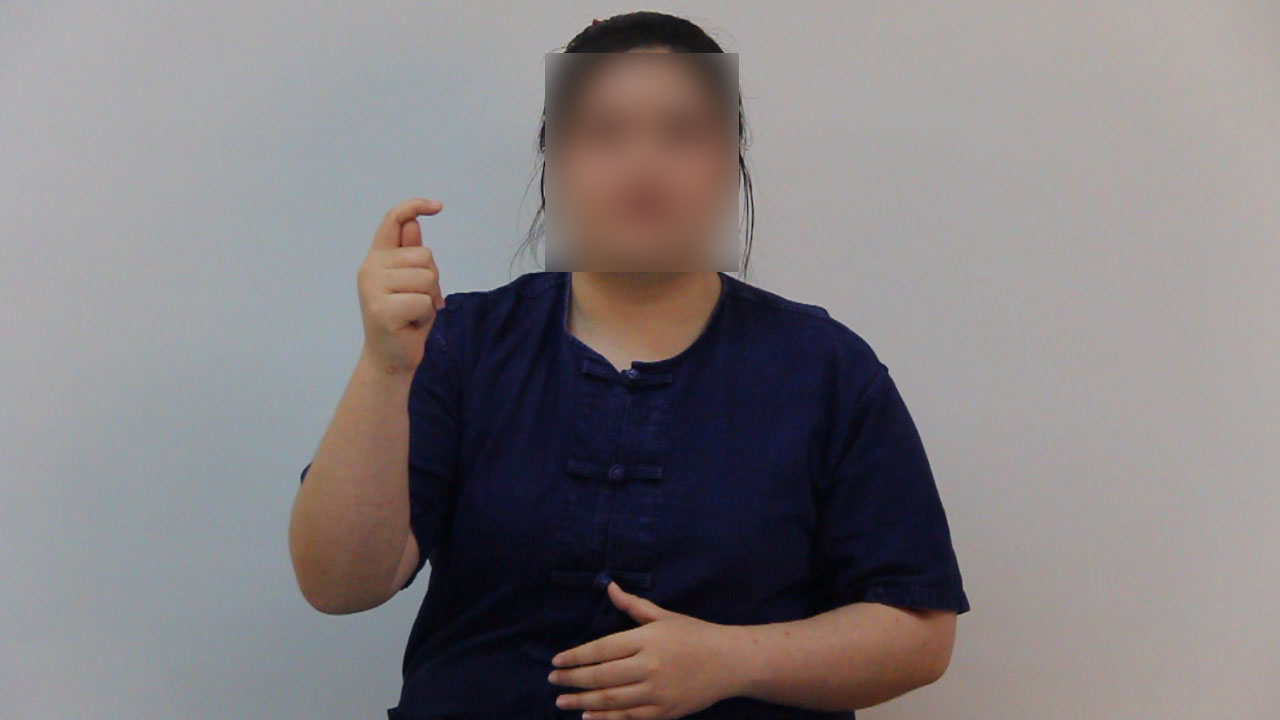or: (348, 192, 458, 389)
